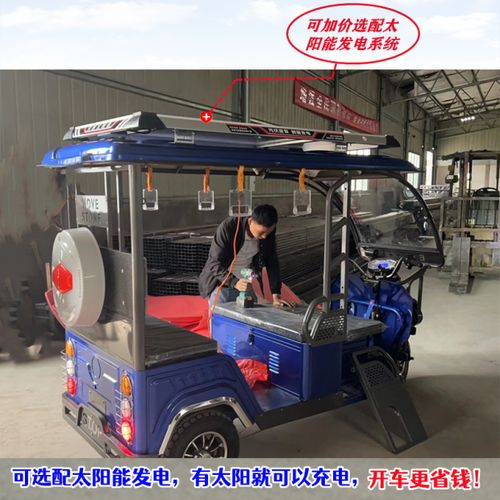empty: (35, 106, 442, 463)
